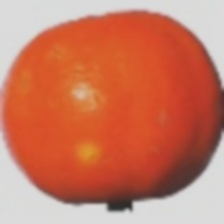tangerine: (53, 31, 210, 217)
